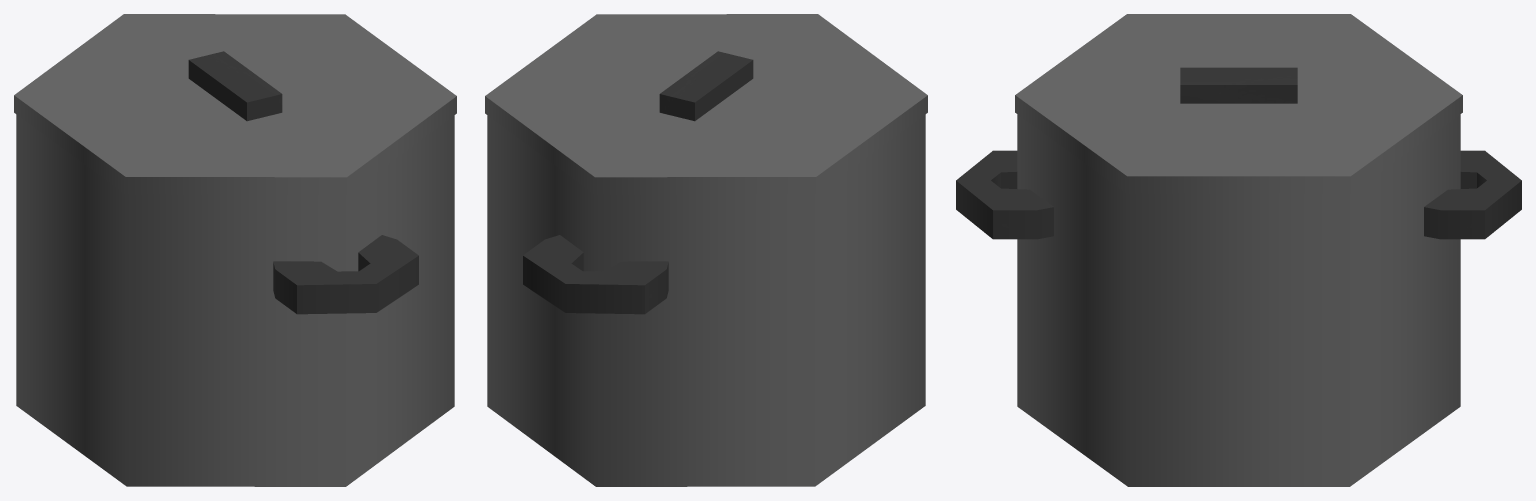
Rendered from panela1.glb.
3 renders of one model, left to right at view 1: azimuth 30°, elevation 25°; view 2: azimuth 150°, elevation 25°; view 3: azimuth 270°, elevation 25°, orthographic.
Parts seen in each view (by area): view 1: Cylinder.001; view 2: Cylinder.001; view 3: Cylinder.001.
Boxes of the visible parts, <box> form: Cylinder.001: <box>14,14,456,486</box>; Cylinder.001: <box>485,14,927,486</box>; Cylinder.001: <box>956,14,1521,486</box>.
Size of the model in its own units: 0.5759 by 0.5469 by 0.849.
Materials: 1 (1 with a texture image).
